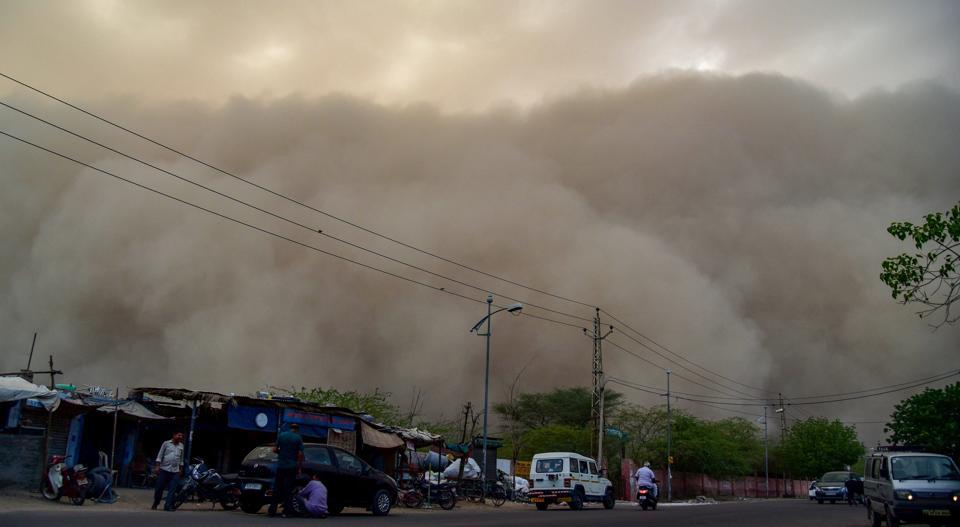car: (233, 442, 403, 515), (864, 444, 955, 522), (528, 451, 616, 512), (810, 472, 850, 503)
motorcycle: (45, 452, 114, 504), (165, 459, 232, 509), (397, 476, 457, 508), (634, 478, 661, 510)
person: (151, 430, 188, 508), (269, 419, 296, 514), (298, 471, 326, 511), (635, 459, 657, 497)
